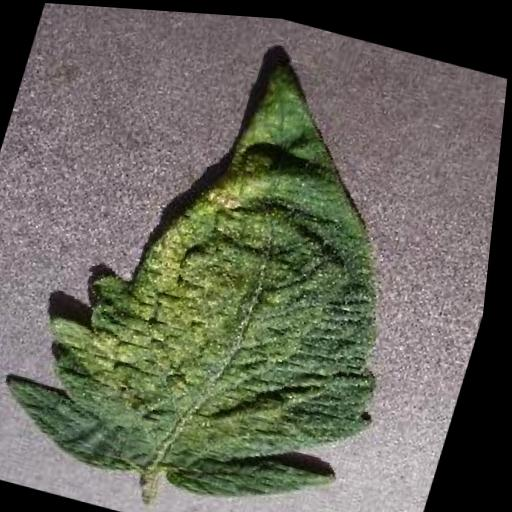Spider Mites: (0, 7, 473, 512)
